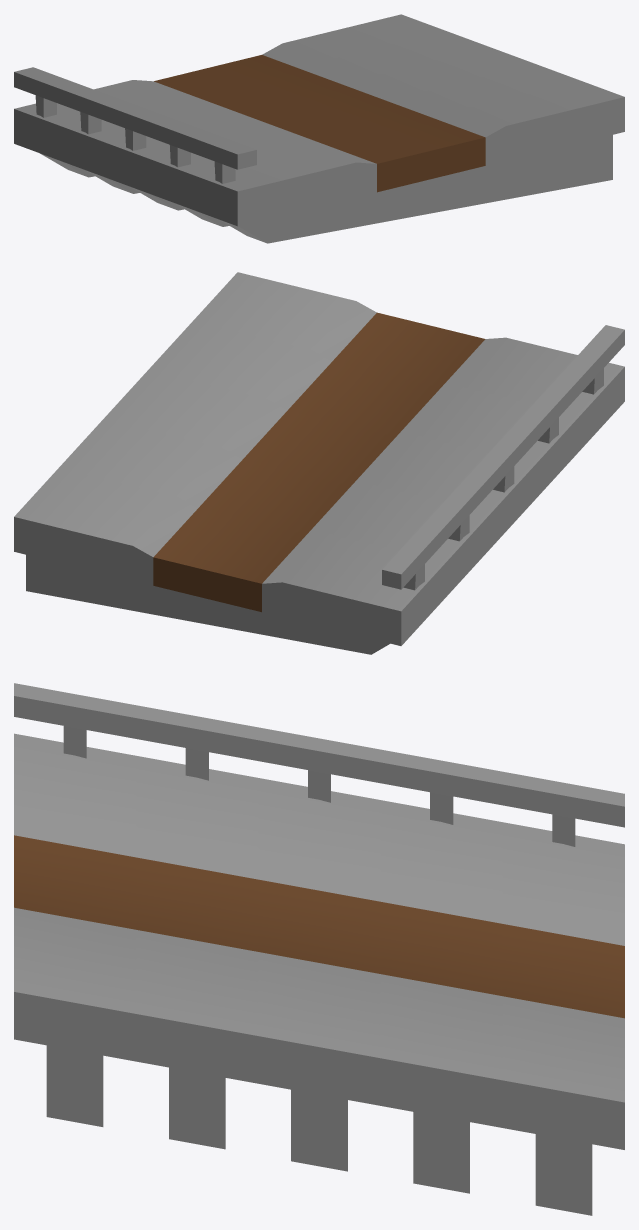
File: BlocLine5P1.FBX
The picture shows the model from 3 angles, top to bottom: view 1: azimuth 30°, elevation 25°; view 2: azimuth 150°, elevation 25°; view 3: azimuth 270°, elevation 25°; orthographic projection. The views are drawn at different scales.
Visible parts, largest first — view 1: BlocLine5P1; view 2: BlocLine5P1; view 3: BlocLine5P1.
Part boxes in pixels (x1,y1,x2,y2): BlocLine5P1: [14, 14, 624, 243]; BlocLine5P1: [14, 272, 624, 654]; BlocLine5P1: [14, 683, 624, 1215].
Size of the model in its own units: 5 by 2.48 by 5.
